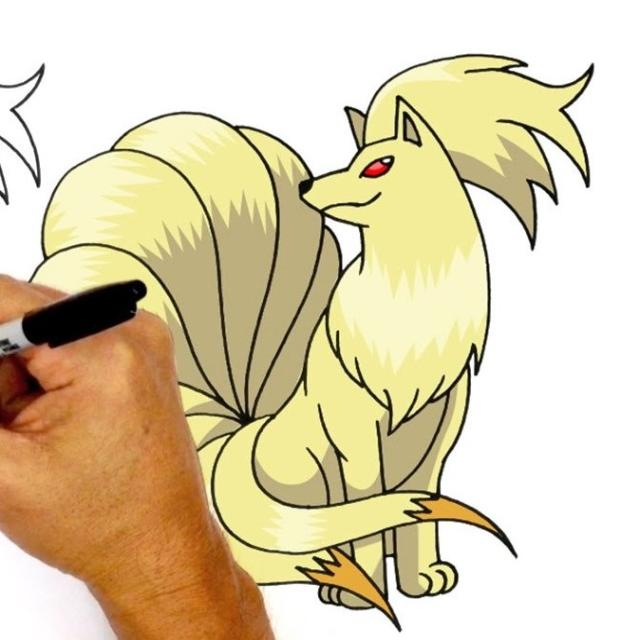Ninetales: (142, 46, 608, 634)
